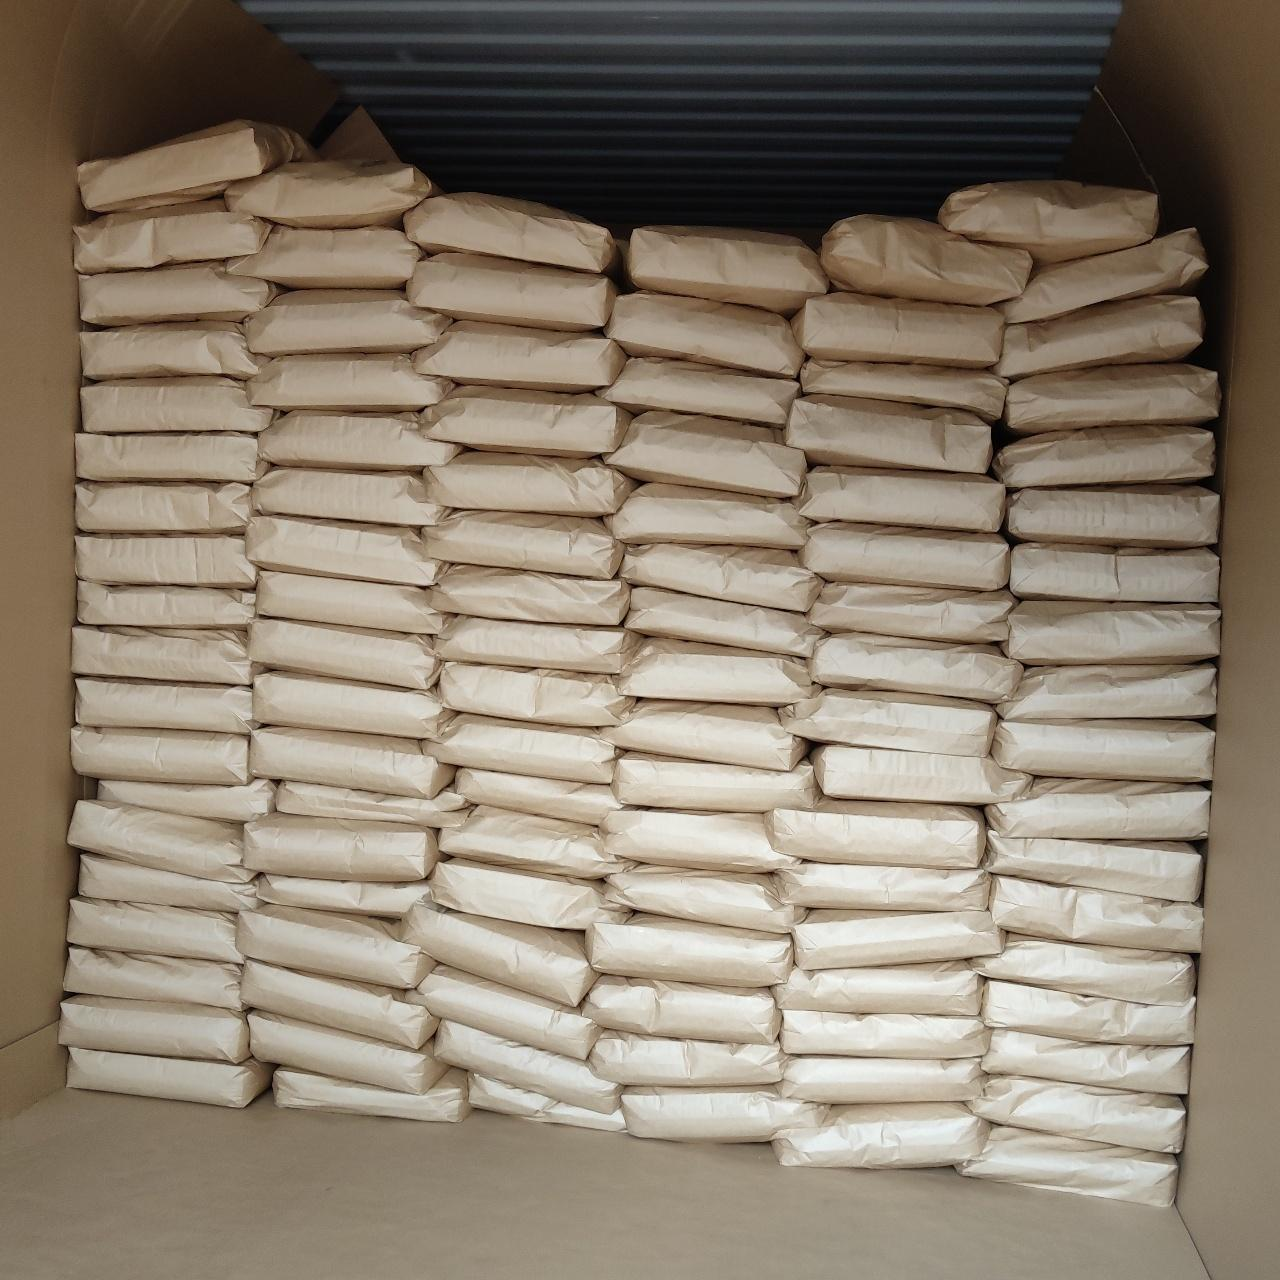sack: (79, 120, 315, 212), (400, 900, 595, 1005), (1001, 232, 1207, 324), (821, 217, 1032, 304), (938, 181, 1158, 263), (956, 1126, 1177, 1206), (626, 226, 828, 313), (241, 960, 437, 1049), (436, 1019, 619, 1114), (605, 411, 806, 497), (417, 965, 600, 1058), (404, 193, 615, 273), (998, 297, 1201, 379), (965, 1076, 1184, 1152), (784, 394, 990, 474), (606, 293, 801, 377), (792, 291, 1005, 368), (237, 905, 434, 988), (406, 253, 617, 331), (990, 876, 1201, 952), (248, 1010, 444, 1092), (764, 797, 983, 867), (69, 799, 256, 881), (1003, 363, 1220, 434), (985, 830, 1201, 900), (411, 321, 627, 392), (420, 386, 631, 457), (224, 159, 440, 229), (808, 633, 1022, 702), (250, 727, 454, 799), (586, 914, 792, 986), (971, 935, 1194, 1001), (779, 689, 998, 756), (619, 632, 816, 704), (75, 199, 268, 273), (601, 700, 806, 769), (244, 290, 451, 358), (772, 1103, 989, 1167), (992, 427, 1214, 489), (625, 587, 821, 658), (799, 523, 1008, 588), (982, 980, 1194, 1044), (422, 511, 622, 579), (423, 451, 634, 516), (246, 516, 440, 586), (248, 618, 438, 689), (600, 358, 799, 425), (620, 544, 819, 612), (1001, 601, 1219, 663), (607, 866, 809, 933), (795, 467, 1003, 531), (438, 806, 626, 878), (981, 1028, 1189, 1092), (607, 483, 806, 550), (254, 672, 452, 738), (422, 714, 613, 783), (985, 779, 1208, 838), (583, 975, 778, 1042), (990, 721, 1213, 779), (809, 745, 1032, 804), (1006, 486, 1218, 547), (801, 358, 1005, 421), (430, 862, 619, 930), (794, 910, 1003, 971), (244, 815, 437, 880), (59, 996, 248, 1063), (611, 753, 818, 813), (1009, 543, 1218, 602), (809, 583, 1017, 642), (80, 263, 275, 326), (998, 663, 1216, 720), (602, 809, 795, 872), (69, 1047, 268, 1108), (227, 226, 422, 288), (437, 662, 627, 726), (256, 570, 441, 634), (430, 565, 629, 625), (434, 615, 639, 673), (63, 946, 241, 1012), (67, 897, 241, 964), (772, 961, 983, 1016), (259, 411, 459, 469), (247, 354, 451, 410), (622, 1085, 829, 1141), (252, 467, 441, 526), (273, 1067, 469, 1122), (72, 726, 251, 785), (72, 627, 256, 685), (79, 855, 258, 913), (82, 377, 272, 433), (588, 1030, 782, 1084), (779, 1009, 987, 1058), (772, 863, 989, 910), (455, 767, 625, 825), (75, 678, 251, 734), (81, 324, 259, 379), (76, 535, 256, 588), (782, 1056, 983, 1103), (75, 483, 251, 535), (275, 781, 467, 828), (76, 435, 264, 482), (469, 1075, 625, 1131), (77, 581, 253, 629), (256, 874, 429, 918), (98, 779, 275, 821)
